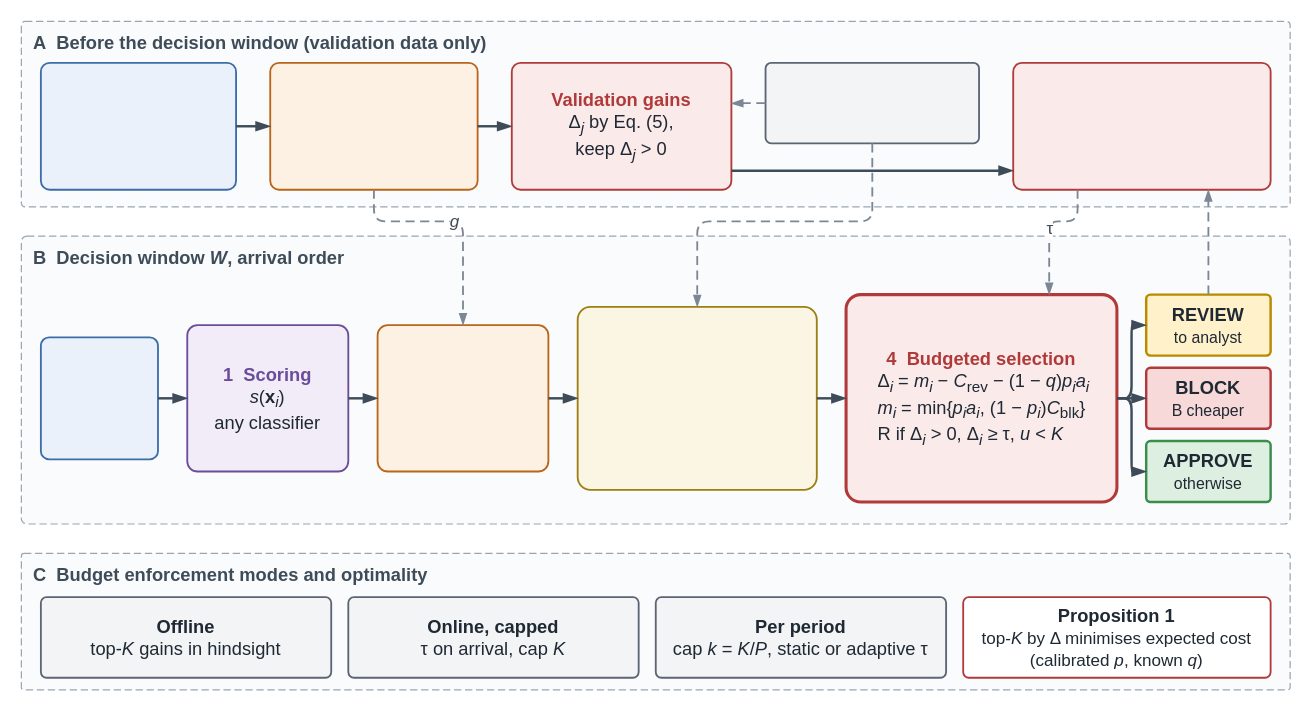
The diagram is 1312 pixels wide and 711 high, and some of its shapes have lost their labels. Each missing label, with the centre of its shape:
"2 Calibration p i = g ( s ( x i ))" goes at (462,398).
"3 Expected cost A: p i a i B: (1 − p i ) C blk R: C rev + (1 − q ) p i a i" goes at (696,397).
"Fit calibrator g isotonic (main) or Platt" goes at (373,125).
"Input x i a i" goes at (98,398).
"Operational inputs C rev , C blk , K or k , q" goes at (871,102).
"Review threshold τ K val -th largest Δ j per period: static or adaptive (Eq. 9)" goes at (1141,125).
"Validation window labelled transactions preceding W" goes at (137,125).
